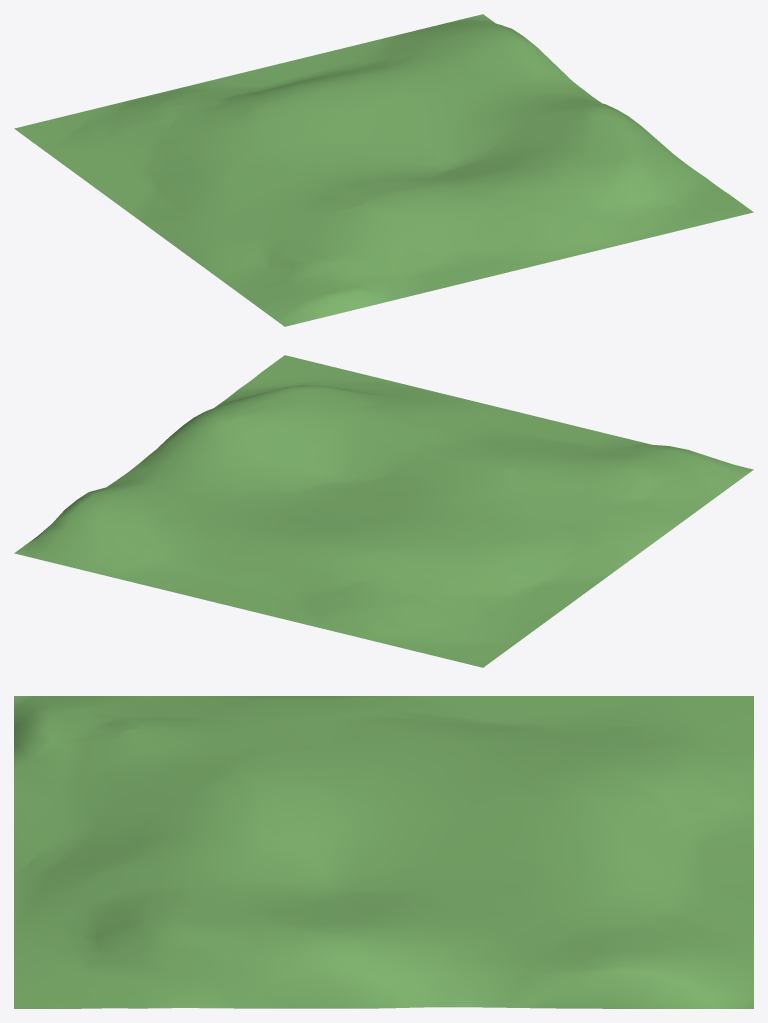
Rendered from SM_Terrain_09.obj.
The picture shows the model from 3 angles, top to bottom: view 1: azimuth 30°, elevation 25°; view 2: azimuth 150°, elevation 25°; view 3: azimuth 270°, elevation 25°; orthographic projection. The views are drawn at different scales.
Parts seen in each view (by area): view 1: SM_Terrain_09; view 2: SM_Terrain_09; view 3: SM_Terrain_09.
Part boxes in pixels (x1=…): SM_Terrain_09: x1=14, y1=14, x2=753, y2=326; SM_Terrain_09: x1=14, y1=355, x2=753, y2=667; SM_Terrain_09: x1=14, y1=696, x2=753, y2=1008.
Bounding box in the file's own units: 16.36 × 1.01 × 16.36.
Materials: 1 (1 with a texture image).
